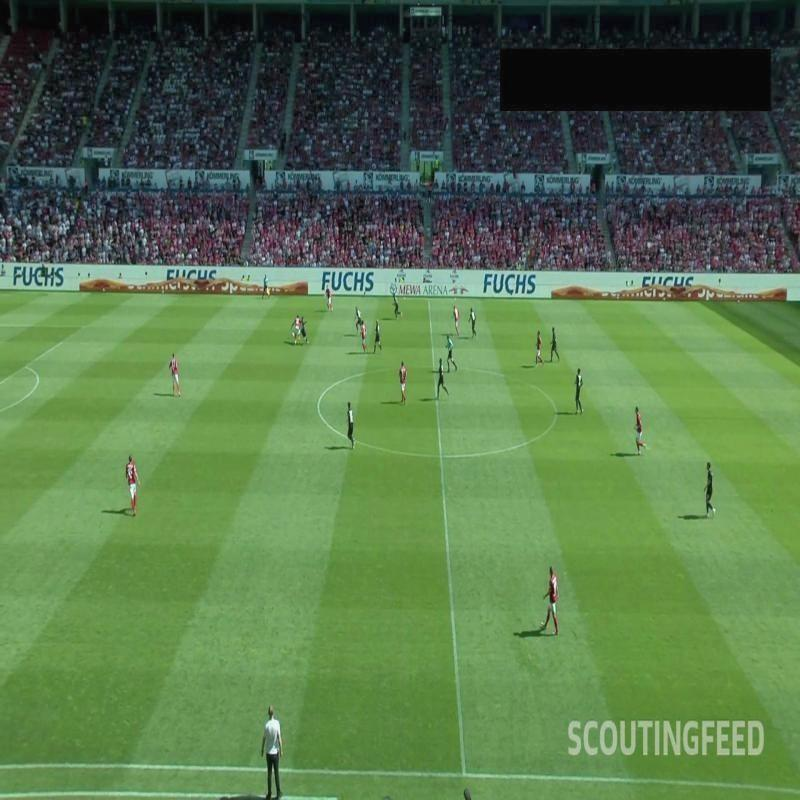10: (19, 360, 33, 374)
13: (421, 292, 435, 306)
14: (430, 362, 444, 376)
15: (432, 447, 446, 461)
16: (456, 762, 476, 785)
9: (76, 320, 90, 334)
c: (310, 396, 326, 416), (548, 404, 562, 418)
